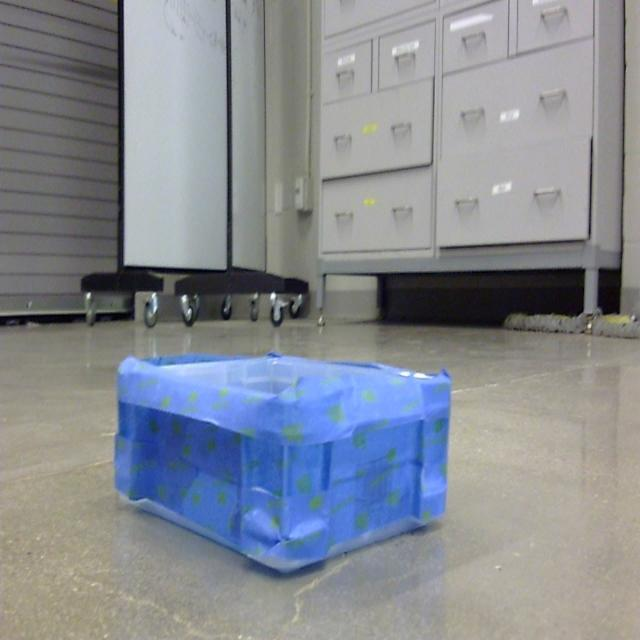bucket: (114, 354, 454, 578)
